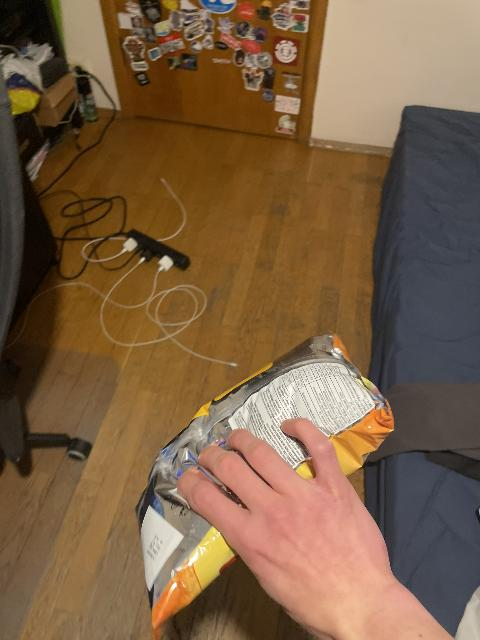Chio Cascaval 125g: (136, 329, 394, 627)
